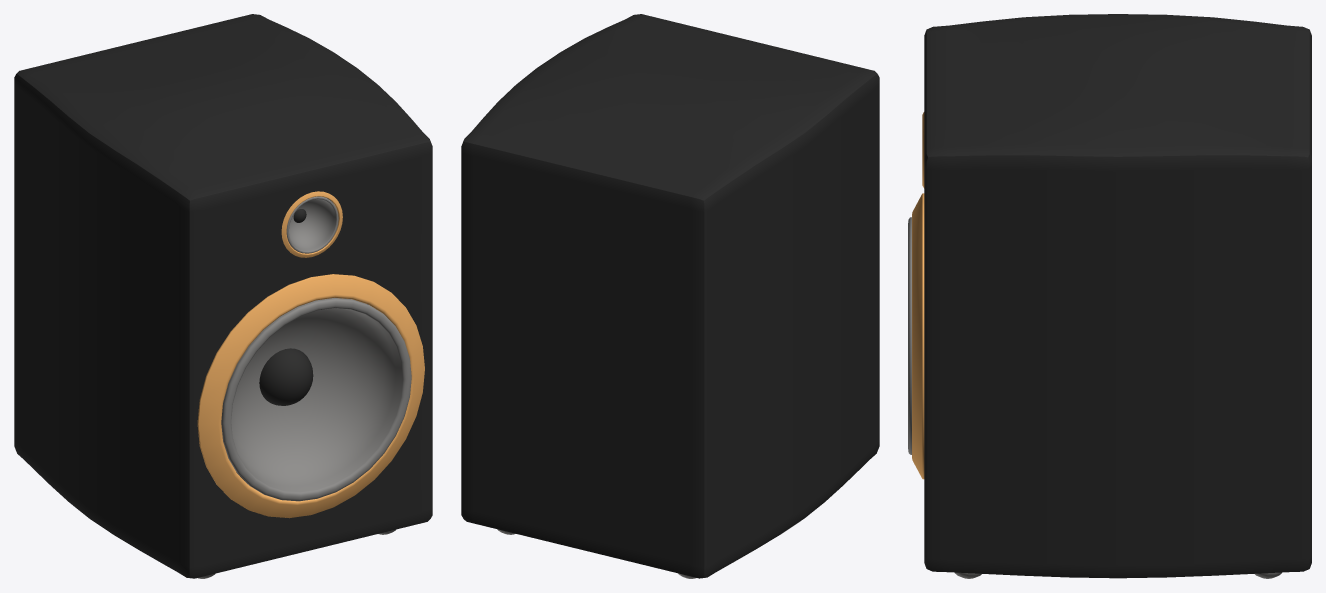
3 renders of one model, left to right at view 1: azimuth 30°, elevation 25°; view 2: azimuth 150°, elevation 25°; view 3: azimuth 270°, elevation 25°, orthographic. The views are drawn at different scales.
Parts seen in each view (by area): view 1: Sphere_6; view 2: Sphere_6; view 3: Sphere_6.
Boxes of the visible parts, bbox=[...] form: Sphere_6: bbox=[14, 14, 432, 578]; Sphere_6: bbox=[461, 14, 879, 578]; Sphere_6: bbox=[908, 14, 1311, 578].
Size of the model in its own units: 147 by 216 by 174.
